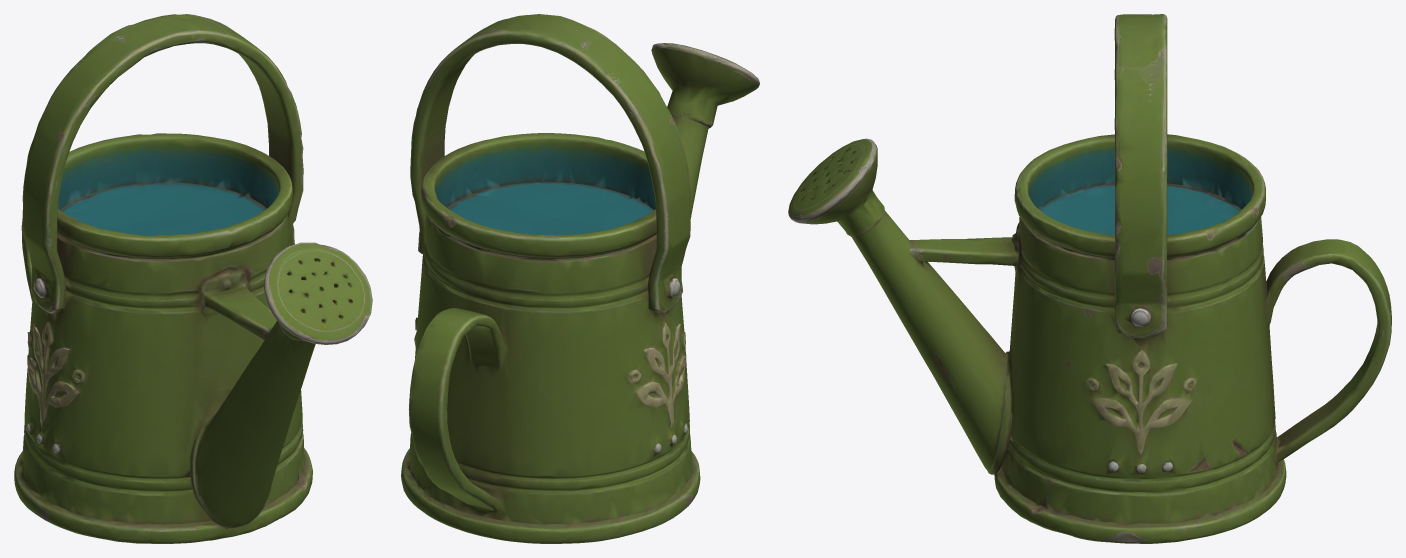
File: regadera.glb
The picture shows the model from 3 angles, left to right: view 1: azimuth 30°, elevation 25°; view 2: azimuth 150°, elevation 25°; view 3: azimuth 270°, elevation 25°; orthographic projection.
Parts seen in each view (by area): view 1: tripo_node_767cd278-882f-4840-baa2-e8126f64d3fb; view 2: tripo_node_767cd278-882f-4840-baa2-e8126f64d3fb; view 3: tripo_node_767cd278-882f-4840-baa2-e8126f64d3fb.
Boxes of the visible parts, <box> form: tripo_node_767cd278-882f-4840-baa2-e8126f64d3fb: <box>14,14,372,543</box>; tripo_node_767cd278-882f-4840-baa2-e8126f64d3fb: <box>401,14,759,543</box>; tripo_node_767cd278-882f-4840-baa2-e8126f64d3fb: <box>788,14,1391,543</box>.
Size of the model in its own units: 0.497 by 0.8342 by 1.
1 material, 1 textured.
